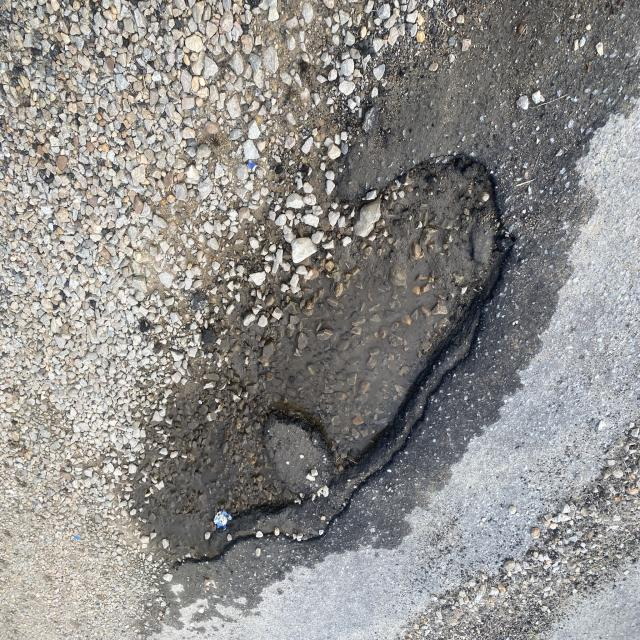Pothole: (110, 110, 546, 590)
